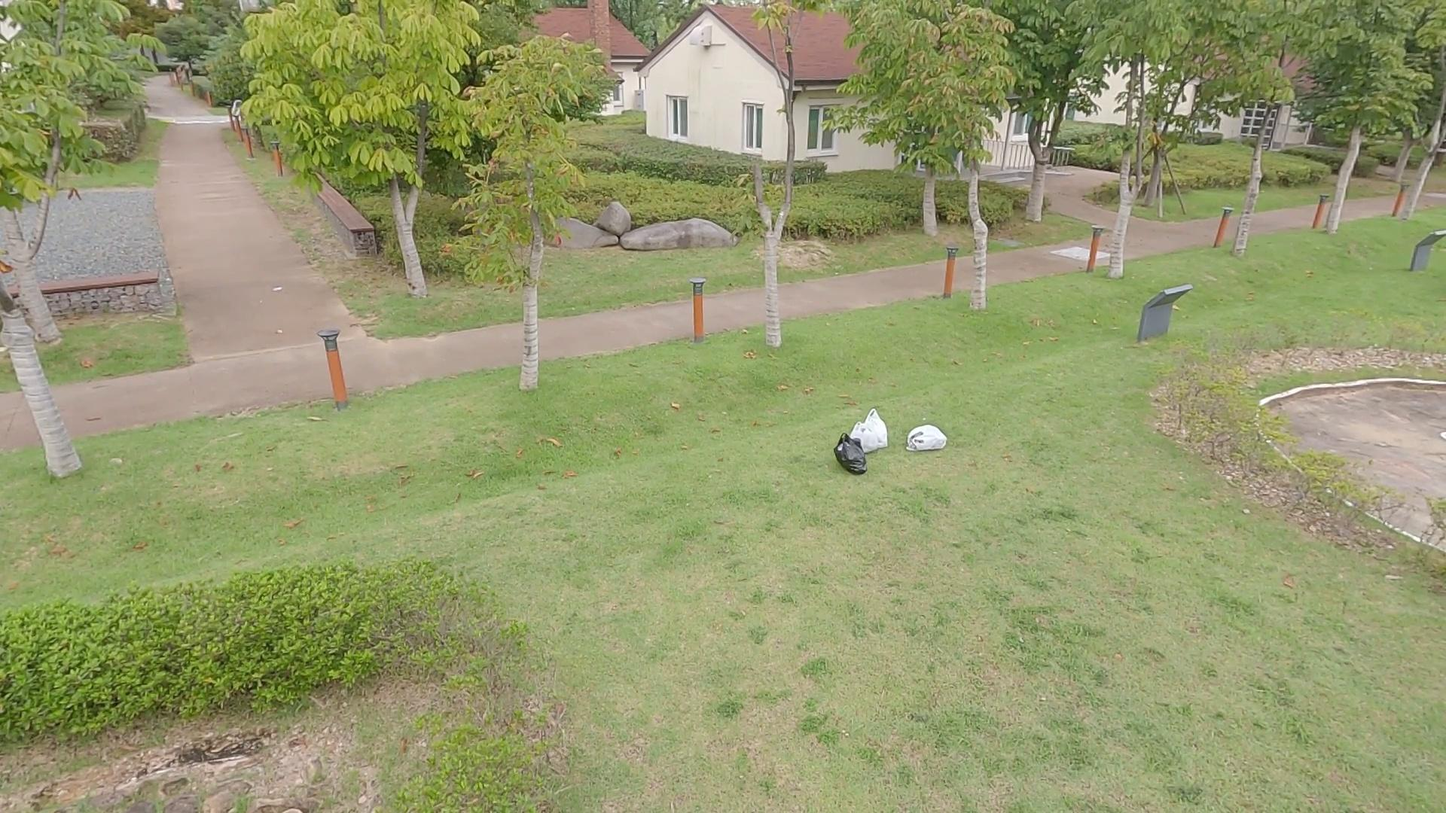trash: (846, 406, 891, 451), (906, 416, 946, 460), (836, 431, 867, 473)
